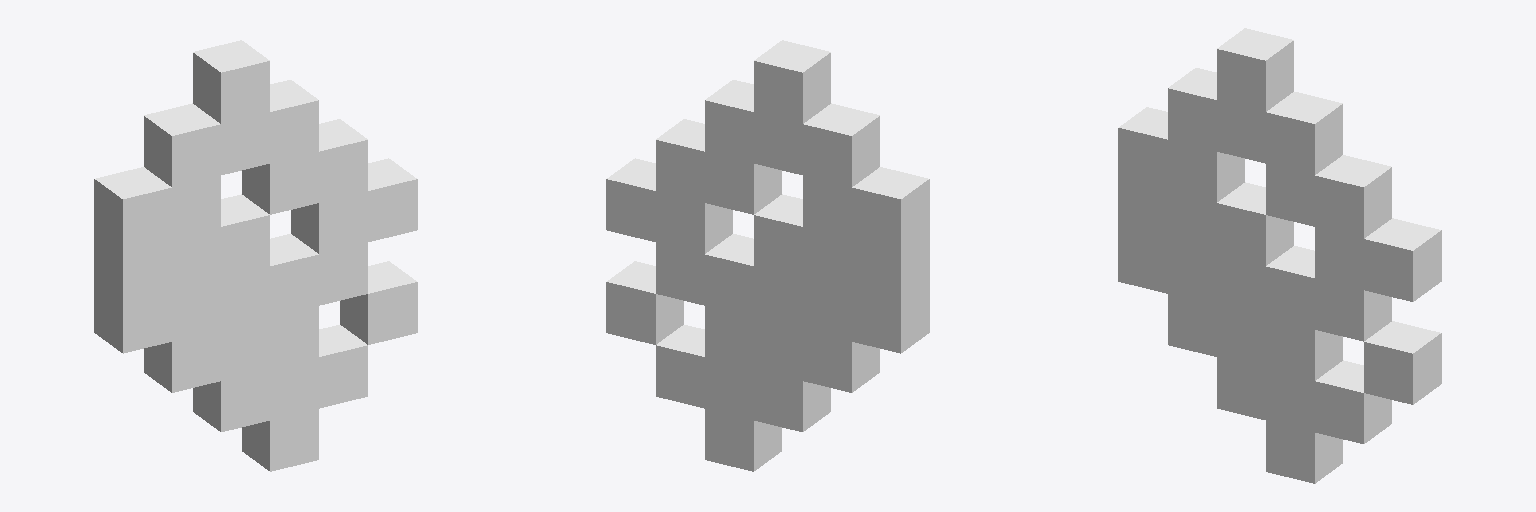
File: Spell-Book-Red.vox.obj
3 views of the same model, side by side, from view 1: azimuth 30°, elevation 25°; view 2: azimuth 150°, elevation 25°; view 3: azimuth 330°, elevation 25° (orthographic).
Visible parts, largest first — view 1: object 1; view 2: object 1; view 3: object 1.
Part boxes in pixels (left/top/right/bottom): object 1: left=94, top=40, right=417, bottom=471; object 1: left=606, top=40, right=929, bottom=471; object 1: left=1118, top=28, right=1441, bottom=483.
Bounding box in the file's own units: 0.6 × 0.8 × 0.1.